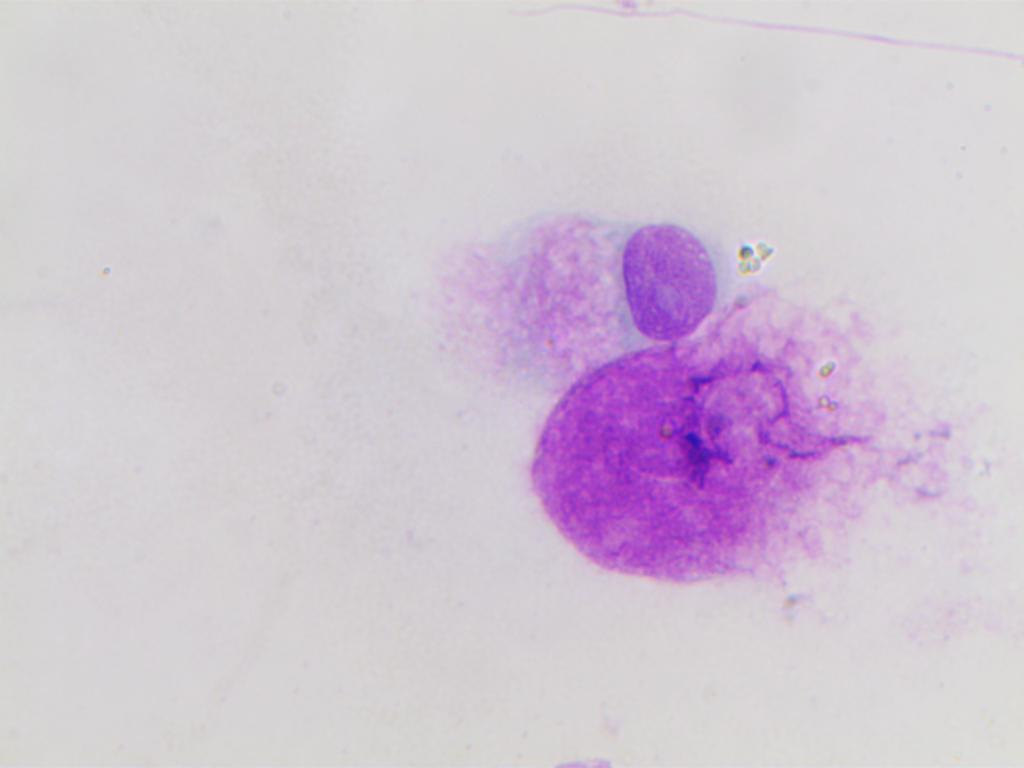artifact: (529, 348, 877, 613), (715, 225, 794, 291)
goblet_cell: (427, 219, 723, 345)
